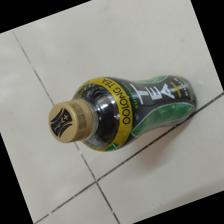Olong: (48, 72, 200, 153)
